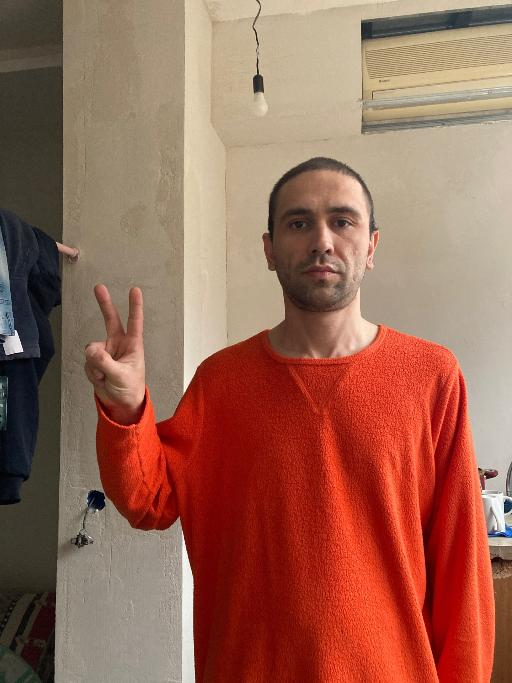peace: (82, 281, 148, 414)
